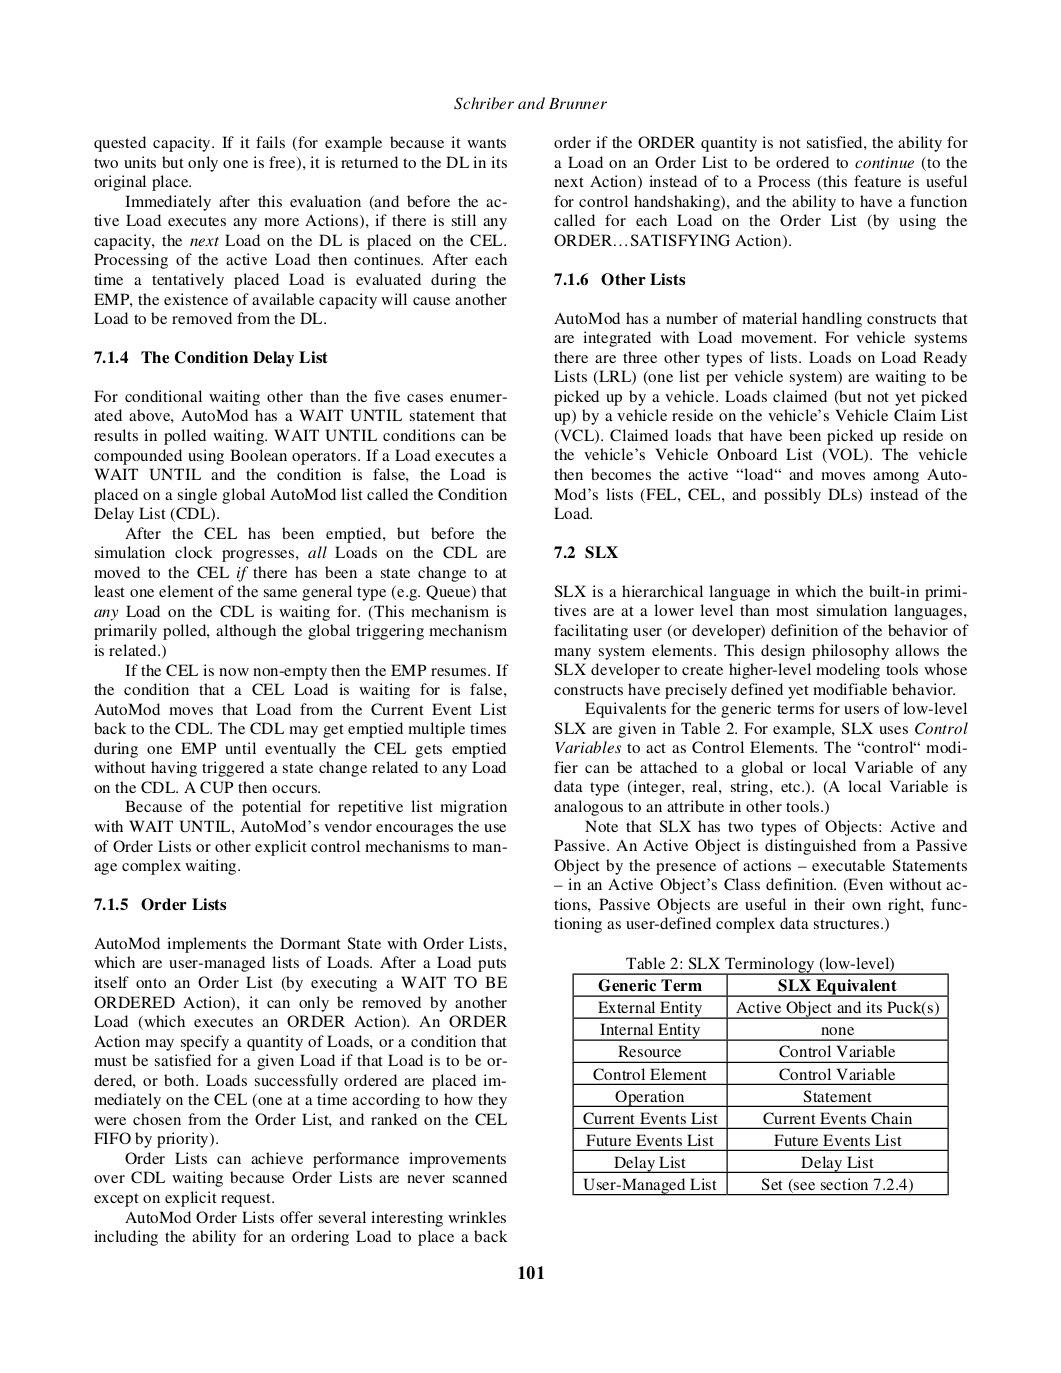Table: (572, 972, 948, 1195)
